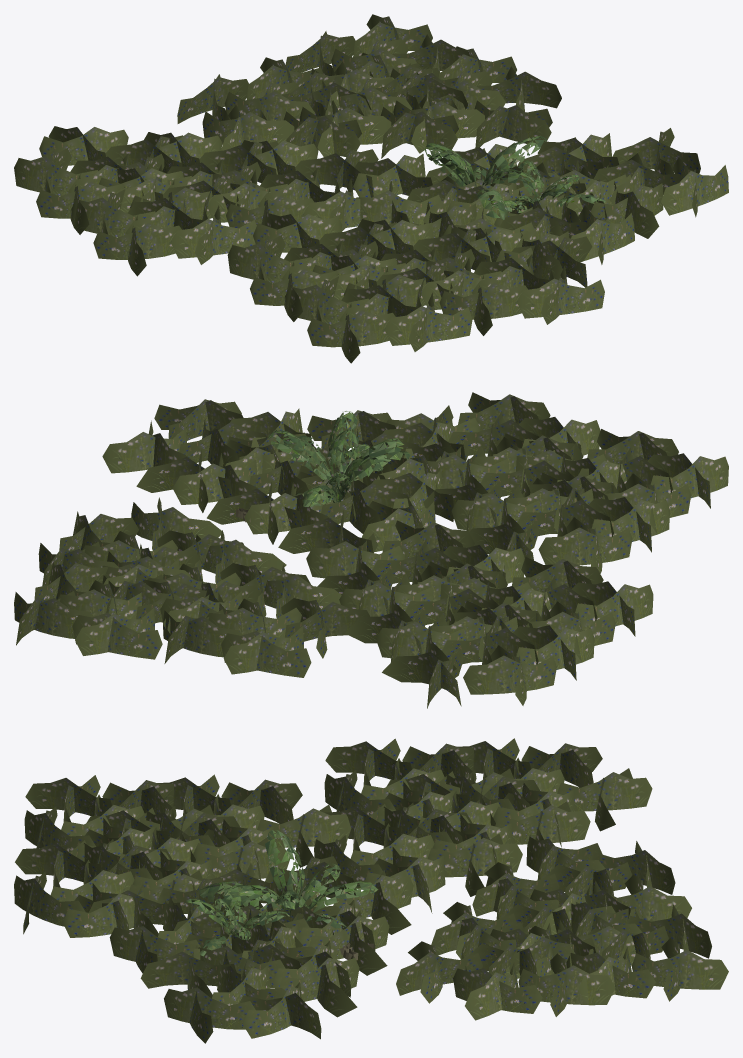
The model's file is zonadinosaurios plantas .fbx.
3 views of the same model, one above another, from view 1: azimuth 30°, elevation 25°; view 2: azimuth 150°, elevation 25°; view 3: azimuth 270°, elevation 25° (orthographic). The views are drawn at different scales.
Parts seen in each view (by area): view 1: Grass_Reeds_LOD0_GrassBase_0.024, Grass_Reeds_LOD0_GrassBase_0.022, Grass_Reeds_LOD0_GrassBase_0.028, Grass_Reeds_LOD0_GrassBase_0.026, Grass_Reeds_LOD0_GrassBase_0.034, Grass_Reeds_LOD0_GrassBase_0.033, Grass_Reeds_LOD0_GrassBase_0.029, Grass_Reeds_LOD0_GrassBase_0.025, Grass_Reeds_LOD0_GrassBase_0.030, Grass_Reeds_LOD0_GrassBase_0.031, Grass_Reeds_LOD0_GrassBase_0.021, Grass_Reeds_LOD0_GrassBase_0.032 (+5 smaller); view 2: Grass_Reeds_LOD0_GrassBase_0.029, Grass_Reeds_LOD0_GrassBase_0.034, Grass_Reeds_LOD0_GrassBase_0.025, Grass_Reeds_LOD0_GrassBase_0.032, Grass_Reeds_LOD0_GrassBase_0.022, Grass_Reeds_LOD0_GrassBase_0.021, Grass_Reeds_LOD0_GrassBase_0.030, Grass_Reeds_LOD0_GrassBase_0.028, Grass_Reeds_LOD0_GrassBase_0.024, Grass_Reeds_LOD0_GrassBase_0.033, Grass_Reeds_LOD0_GrassBase_0.026, Grass_Reeds_LOD0_GrassBase_0.027 (+5 smaller); view 3: Grass_Reeds_LOD0_GrassBase_0.022, Grass_Reeds_LOD0_GrassBase_0.033, Grass_Reeds_LOD0_GrassBase_0.032, Grass_Reeds_LOD0_GrassBase_0.034, Grass_Reeds_LOD0_GrassBase_0.026, Grass_Reeds_LOD0_GrassBase_0.030, Grass_Reeds_LOD0_GrassBase_0.029, Grass_Reeds_LOD0_GrassBase_0.025, Grass_Reeds_LOD0_GrassBase_0.024, Grass_Reeds_LOD0_GrassBase_0.028, Grass_Reeds_LOD0_GrassBase_0.027, Grass_Reeds_LOD0_GrassBase_0.019 (+5 smaller).
Boxes of the visible parts, left/top/right/bottom form: Grass_Reeds_LOD0_GrassBase_0.024: left=285, top=255, right=472, bottom=363; Grass_Reeds_LOD0_GrassBase_0.022: left=537, top=128, right=728, bottom=238; Grass_Reeds_LOD0_GrassBase_0.028: left=71, top=168, right=256, bottom=276; Grass_Reeds_LOD0_GrassBase_0.026: left=426, top=227, right=604, bottom=335; Grass_Reeds_LOD0_GrassBase_0.034: left=177, top=57, right=371, bottom=156; Grass_Reeds_LOD0_GrassBase_0.033: left=375, top=46, right=561, bottom=153; Grass_Reeds_LOD0_GrassBase_0.029: left=14, top=126, right=182, bottom=234; Grass_Reeds_LOD0_GrassBase_0.025: left=227, top=213, right=396, bottom=321; Grass_Reeds_LOD0_GrassBase_0.030: left=212, top=140, right=378, bottom=231; Grass_Reeds_LOD0_GrassBase_0.031: left=281, top=52, right=468, bottom=158; Grass_Reeds_LOD0_GrassBase_0.021: left=353, top=148, right=521, bottom=238; Grass_Reeds_LOD0_GrassBase_0.032: left=285, top=14, right=469, bottom=113; Grass_Reeds_LOD0_GrassBase_0.029: left=376, top=600, right=594, bottom=708; Grass_Reeds_LOD0_GrassBase_0.034: left=162, top=565, right=370, bottom=677; Grass_Reeds_LOD0_GrassBase_0.025: left=451, top=472, right=669, bottom=573; Grass_Reeds_LOD0_GrassBase_0.032: left=14, top=546, right=223, bottom=659; Grass_Reeds_LOD0_GrassBase_0.022: left=102, top=399, right=311, bottom=512; Grass_Reeds_LOD0_GrassBase_0.021: left=244, top=460, right=454, bottom=553; Grass_Reeds_LOD0_GrassBase_0.030: left=306, top=520, right=524, bottom=615; Grass_Reeds_LOD0_GrassBase_0.028: left=440, top=557, right=653, bottom=661; Grass_Reeds_LOD0_GrassBase_0.024: left=516, top=429, right=728, bottom=533; Grass_Reeds_LOD0_GrassBase_0.033: left=38, top=497, right=243, bottom=586; Grass_Reeds_LOD0_GrassBase_0.026: left=386, top=392, right=600, bottom=487; Grass_Reeds_LOD0_GrassBase_0.027: left=339, top=561, right=551, bottom=662; Grass_Reeds_LOD0_GrassBase_0.022: left=140, top=938, right=359, bottom=1043; Grass_Reeds_LOD0_GrassBase_0.033: left=396, top=915, right=615, bottom=1020; Grass_Reeds_LOD0_GrassBase_0.032: left=509, top=902, right=728, bottom=1004; Grass_Reeds_LOD0_GrassBase_0.034: left=472, top=836, right=691, bottom=934; Grass_Reeds_LOD0_GrassBase_0.026: left=14, top=840, right=213, bottom=937; Grass_Reeds_LOD0_GrassBase_0.030: left=314, top=804, right=522, bottom=913; Grass_Reeds_LOD0_GrassBase_0.029: left=445, top=738, right=652, bottom=847; Grass_Reeds_LOD0_GrassBase_0.025: left=145, top=774, right=351, bottom=879; Grass_Reeds_LOD0_GrassBase_0.024: left=24, top=775, right=220, bottom=868; Grass_Reeds_LOD0_GrassBase_0.028: left=324, top=738, right=519, bottom=831; Grass_Reeds_LOD0_GrassBase_0.027: left=383, top=771, right=590, bottom=863; Grass_Reeds_LOD0_GrassBase_0.019: left=173, top=898, right=389, bottom=997.
Size of the model in its own units: 754 by 111 by 814.
Materials: 2 (2 with a texture image).
